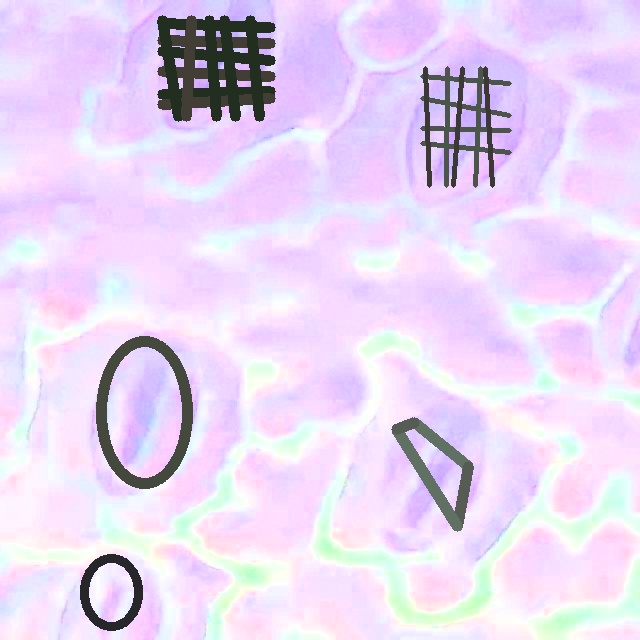open: (97, 335, 192, 488), (158, 16, 275, 121), (420, 66, 511, 187), (391, 417, 473, 531), (80, 553, 143, 631)
